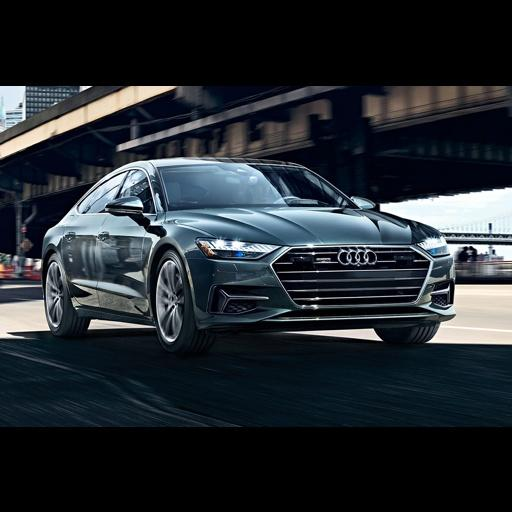hatchback: (41, 156, 454, 352)
